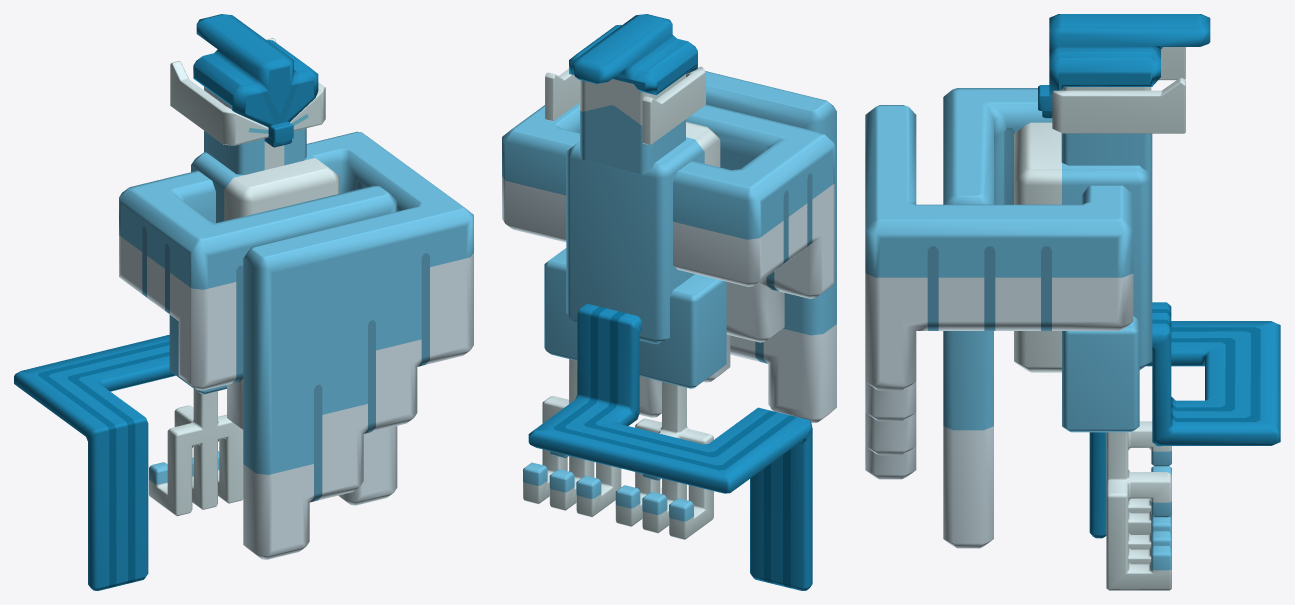
Rendered from model_shiny.obj.
The picture shows the model from 3 angles, left to right: view 1: azimuth 30°, elevation 25°; view 2: azimuth 150°, elevation 25°; view 3: azimuth 270°, elevation 25°; orthographic projection. The views are drawn at different scales.
Parts seen in each view (by area): view 1: 0144_articuno_galarian_shiny; view 2: 0144_articuno_galarian_shiny; view 3: 0144_articuno_galarian_shiny.
Part boxes in pixels (x1,y1,x2,y2): 0144_articuno_galarian_shiny: (14,14,473,590); 0144_articuno_galarian_shiny: (502,14,836,590); 0144_articuno_galarian_shiny: (865,14,1280,590).
Bounding box in the file's own units: 2.66 × 4.42 × 2.85.
1 material, 1 textured.
